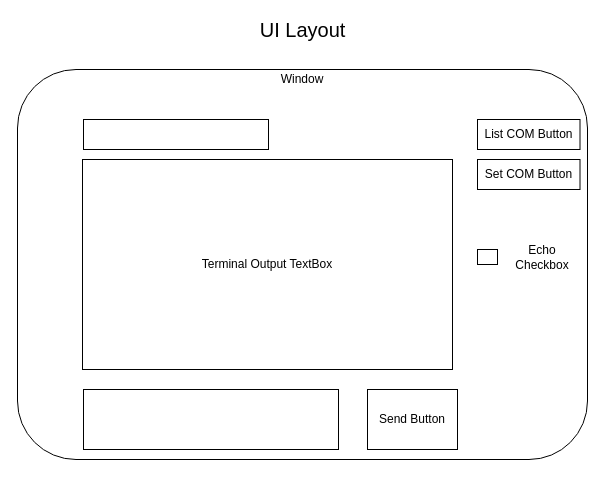
The diagram is 605 pixels wide and 477 high, and some of its shapes have lost their labels. Here are the shapes that lost their labels. From the top down, the centre of each, then its label:
At (175,134): "Select COM Input TextBox".
At (210,419): "Message Input TextBox".
